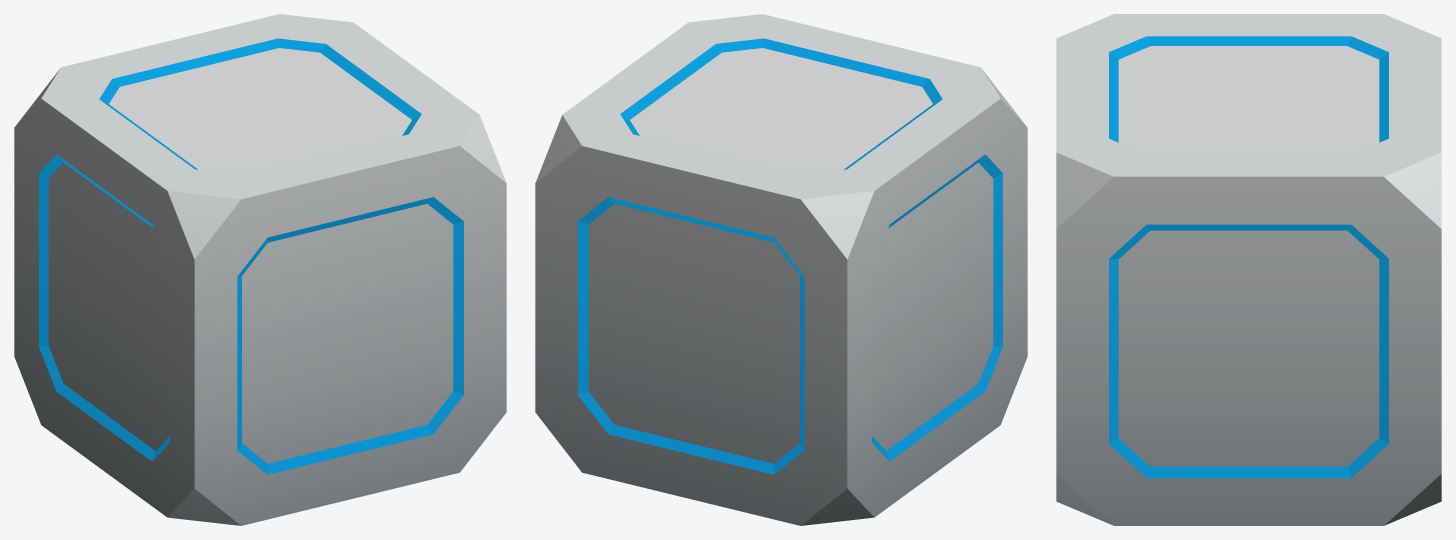
The picture shows the model from 3 angles, left to right: view 1: azimuth 30°, elevation 25°; view 2: azimuth 150°, elevation 25°; view 3: azimuth 270°, elevation 25°; orthographic projection. The views are drawn at different scales.
Parts seen in each view (by area): view 1: Box_008; view 2: Box_008; view 3: Box_008.
Boxes of the visible parts, box(x1,y1,x2,y2) form: Box_008: box(14, 14, 506, 525); Box_008: box(535, 14, 1027, 525); Box_008: box(1056, 14, 1441, 525).
Bounding box in the file's own units: 0.6 × 0.6 × 0.6.
2 materials, 2 textured.
